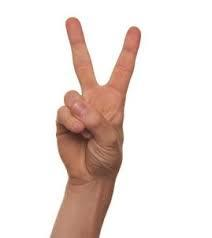peace_sign: (51, 13, 148, 184)
